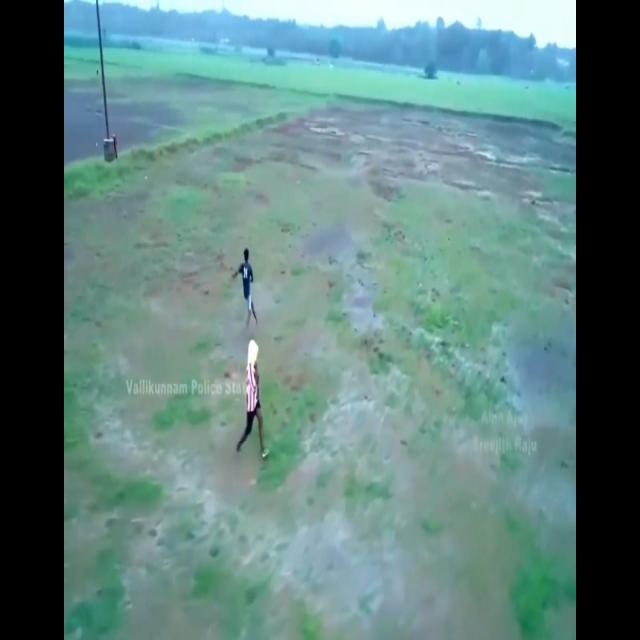humans: (236, 335, 268, 465), (233, 243, 259, 331)
